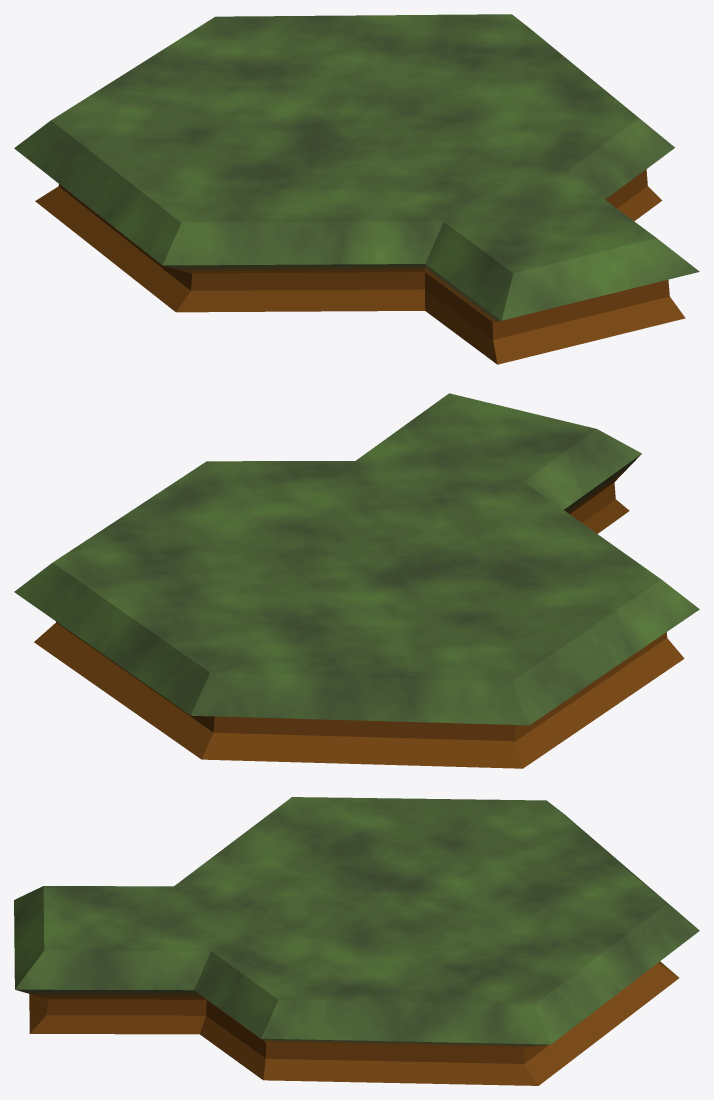
The model's file is T1_Terreno_Lvl1_T.fbx.
The picture shows the model from 3 angles, top to bottom: view 1: azimuth 30°, elevation 25°; view 2: azimuth 150°, elevation 25°; view 3: azimuth 270°, elevation 25°; orthographic projection. The views are drawn at different scales.
Parts seen in each view (by area): view 1: T1_modelosBlockout_nivel1; view 2: T1_modelosBlockout_nivel1; view 3: T1_modelosBlockout_nivel1.
Part boxes in pixels (x1,y1,x2,y2): T1_modelosBlockout_nivel1: (14,14,699,364); T1_modelosBlockout_nivel1: (14,393,699,768); T1_modelosBlockout_nivel1: (14,797,699,1085).
Size of the model in its own units: 4515 by 664 by 5604.
